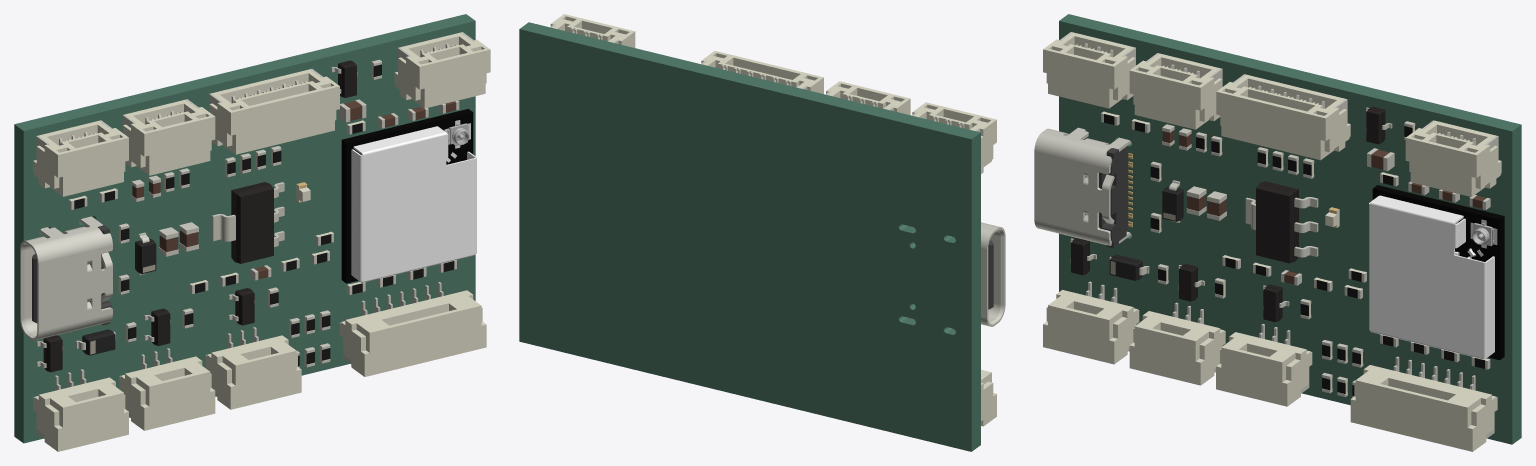
File: board.glb
The picture shows the model from 3 angles, left to right: view 1: azimuth 30°, elevation 25°; view 2: azimuth 150°, elevation 25°; view 3: azimuth 330°, elevation 25°; orthographic projection.
Visible parts, largest first — view 1: =>[0:1:1:26], =>[0:1:1:11]_f8d593, =>[0:1:1:13]_3274fb, =>[0:1:1:17]_894a7f, =>[0:1:1:25]_1e597c, =>[0:1:1:15]_4_7cdca9, =>[0:1:1:15]_2_80355d, =>[0:1:1:15]_5_b439b0, =>[0:1:1:15]_3_dd2437, =>[0:1:1:15]_19606e, =>[0:1:1:15]_1_3593d5, =>[0:1:1:11] (+10 smaller); view 2: =>[0:1:1:26], =>[0:1:1:13]_3274fb, =>[0:1:1:25]_1e597c, =>[0:1:1:15]_2_80355d, =>[0:1:1:15]_4_7cdca9, =>[0:1:1:15]_5_b439b0, =>[0:1:1:15]_3_dd2437; view 3: =>[0:1:1:26], =>[0:1:1:11]_f8d593, =>[0:1:1:17]_894a7f, =>[0:1:1:25]_1e597c, =>[0:1:1:13]_3274fb, =>[0:1:1:15]_4_7cdca9, =>[0:1:1:15]_5_b439b0, =>[0:1:1:15]_2_80355d, =>[0:1:1:15]_1_3593d5, =>[0:1:1:15]_3_dd2437, =>[0:1:1:15]_19606e, =>[0:1:1:11] (+10 smaller).
Boxes of the visible parts, box(x1,y1,x2,y2) form: =>[0:1:1:26]: box(14, 14, 475, 443); =>[0:1:1:11]_f8d593: box(351, 126, 476, 282); =>[0:1:1:13]_3274fb: box(20, 216, 112, 340); =>[0:1:1:17]_894a7f: box(339, 290, 486, 376); =>[0:1:1:25]_1e597c: box(209, 69, 339, 154); =>[0:1:1:15]_4_7cdca9: box(394, 32, 490, 108); =>[0:1:1:15]_2_80355d: box(33, 121, 128, 196); =>[0:1:1:15]_5_b439b0: box(123, 99, 215, 175); =>[0:1:1:15]_3_dd2437: box(33, 377, 128, 451); =>[0:1:1:15]_19606e: box(119, 356, 215, 430); =>[0:1:1:15]_1_3593d5: box(205, 335, 301, 409); =>[0:1:1:11]: box(341, 109, 473, 283); =>[0:1:1:26]: box(519, 22, 980, 451); =>[0:1:1:13]_3274fb: box(909, 222, 1005, 329); =>[0:1:1:25]_1e597c: box(701, 51, 823, 93); =>[0:1:1:15]_2_80355d: box(912, 102, 996, 173); =>[0:1:1:15]_4_7cdca9: box(550, 14, 635, 47); =>[0:1:1:15]_5_b439b0: box(826, 81, 910, 115); =>[0:1:1:15]_3_dd2437: box(981, 370, 996, 426); =>[0:1:1:26]: box(1059, 14, 1521, 444); =>[0:1:1:11]_f8d593: box(1369, 195, 1494, 359); =>[0:1:1:17]_894a7f: box(1350, 365, 1497, 451); =>[0:1:1:25]_1e597c: box(1216, 74, 1350, 160); =>[0:1:1:13]_3274fb: box(1034, 127, 1130, 245); =>[0:1:1:15]_4_7cdca9: box(1405, 121, 1501, 196); =>[0:1:1:15]_5_b439b0: box(1129, 53, 1222, 129); =>[0:1:1:15]_2_80355d: box(1043, 32, 1135, 108); =>[0:1:1:15]_1_3593d5: box(1216, 332, 1312, 406); =>[0:1:1:15]_3_dd2437: box(1043, 290, 1139, 364); =>[0:1:1:15]_19606e: box(1129, 311, 1225, 385); =>[0:1:1:11]: box(1372, 185, 1504, 360).
Bounding box in the file's own units: 44.99 × 29.4 × 5.89.
